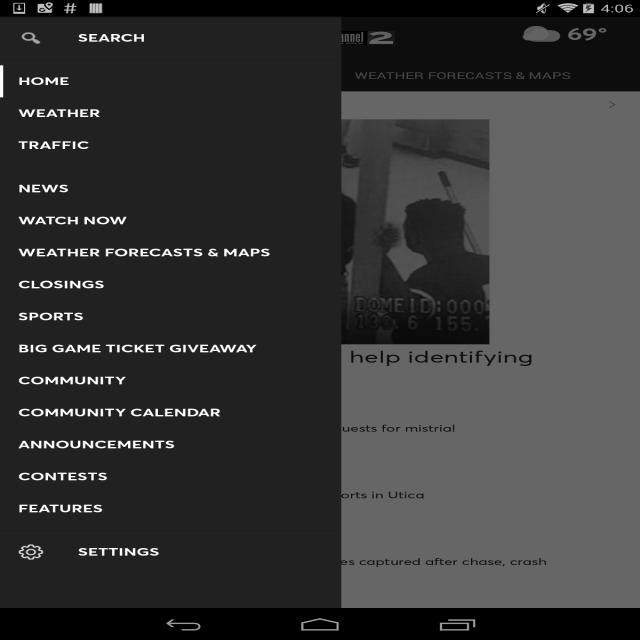CheckedTextView: (18, 66, 323, 97), (18, 98, 323, 129), (18, 130, 323, 161), (18, 173, 323, 204), (18, 205, 323, 236), (18, 237, 323, 268), (18, 269, 323, 300), (18, 301, 323, 332), (18, 333, 323, 364), (18, 365, 323, 396), (18, 397, 323, 428), (18, 429, 323, 460), (18, 461, 323, 492), (18, 493, 323, 524), (18, 23, 323, 53), (18, 537, 323, 567)
ImageButton: (9, 17, 68, 59)
ImageView: (0, 120, 640, 344), (19, 486, 143, 540), (19, 420, 143, 473), (19, 553, 143, 606), (278, 22, 406, 54), (522, 22, 561, 46), (65, 503, 97, 523), (604, 99, 621, 110)
TextView: (0, 344, 640, 392), (159, 553, 547, 573), (19, 100, 621, 112), (159, 420, 456, 440), (159, 486, 424, 506), (354, 69, 571, 82), (567, 23, 608, 44), (64, 69, 107, 82), (235, 69, 277, 82), (177, 506, 204, 517), (43, 392, 70, 402), (177, 440, 204, 450), (177, 573, 204, 583), (19, 393, 43, 402), (159, 440, 177, 450), (159, 507, 177, 516), (159, 574, 177, 583)
